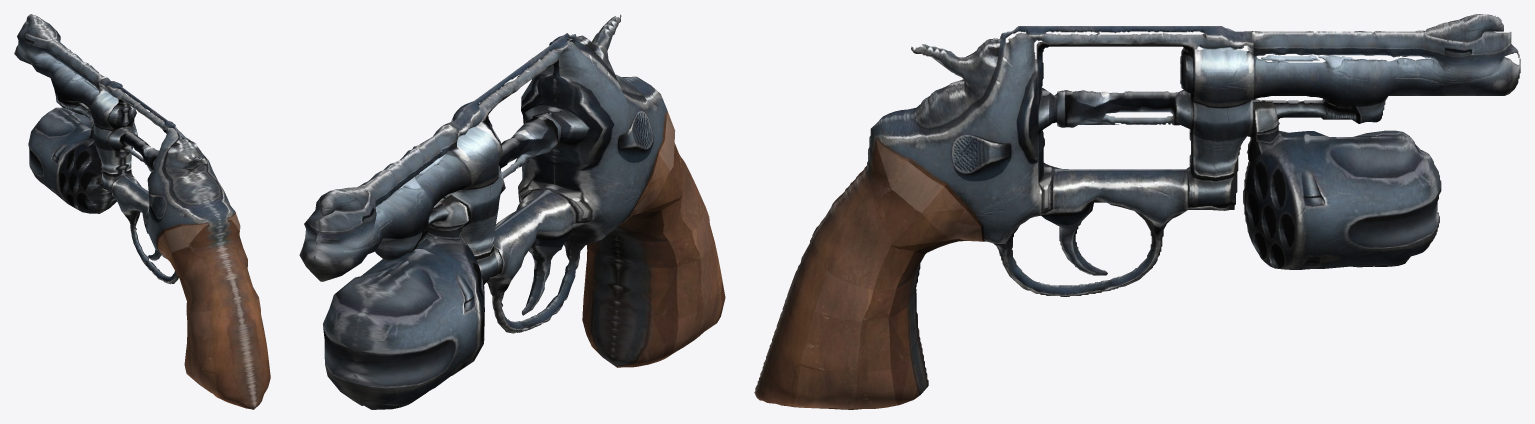
Rendered from revolver-arme.glb.
The picture shows the model from 3 angles, left to right: view 1: azimuth 30°, elevation 25°; view 2: azimuth 150°, elevation 25°; view 3: azimuth 270°, elevation 25°; orthographic projection. The views are drawn at different scales.
Visible parts, largest first — view 1: revolver-arme; view 2: revolver-arme; view 3: revolver-arme.
Part boxes in pixels (left/top/right/bottom): revolver-arme: left=14, top=14, right=270, bottom=409; revolver-arme: left=299, top=14, right=725, bottom=409; revolver-arme: left=754, top=14, right=1520, bottom=409.
Size of the model in its own units: 0.04 by 0.1337 by 0.2385.
Materials: 1 (1 with a texture image).
